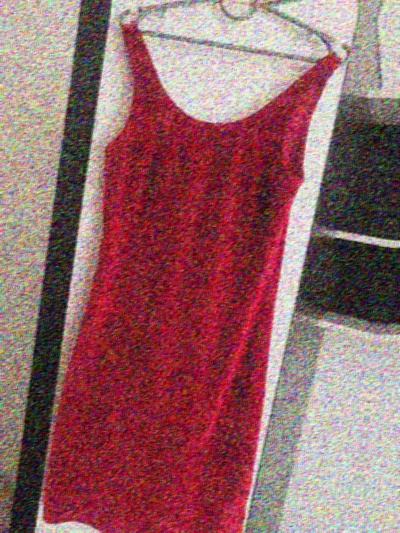Dress: (22, 0, 355, 533), (92, 0, 400, 4)
